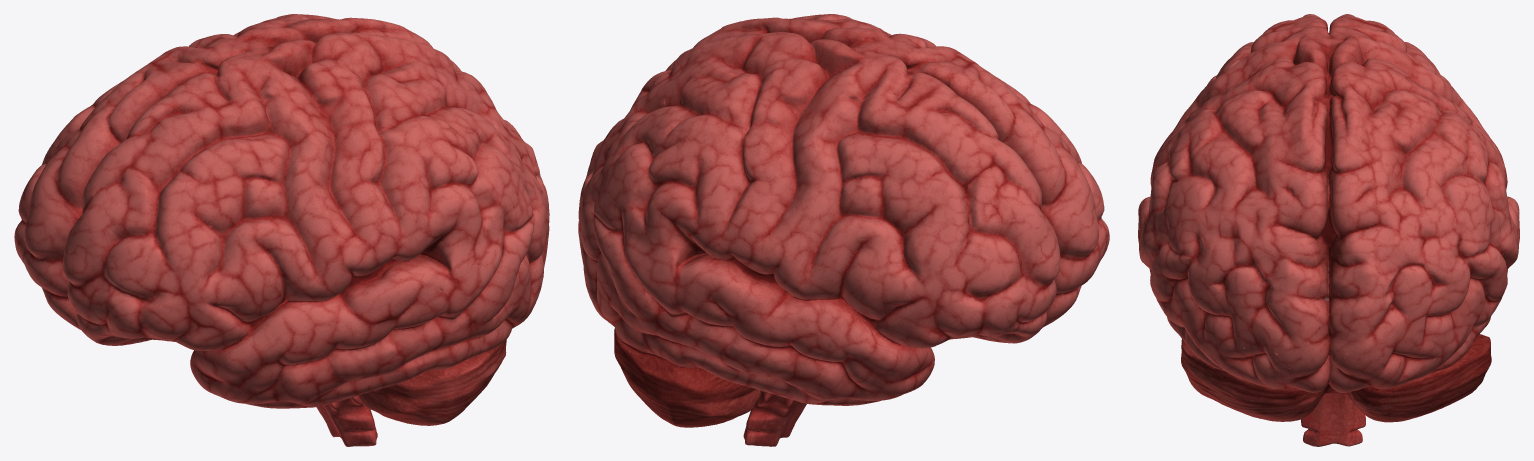
File: Cerebro.glb
The picture shows the model from 3 angles, left to right: view 1: azimuth 30°, elevation 25°; view 2: azimuth 150°, elevation 25°; view 3: azimuth 270°, elevation 25°; orthographic projection. The views are drawn at different scales.
Parts seen in each view (by area): view 1: world; view 2: world; view 3: world.
Part boxes in pixels (<box>): world: <box>14,14,549,446</box>; world: <box>578,14,1109,446</box>; world: <box>1138,14,1519,446</box>.
Bounding box in the file's own units: 1 × 0.8495 × 0.8007.
Materials: 1 (1 with a texture image).
